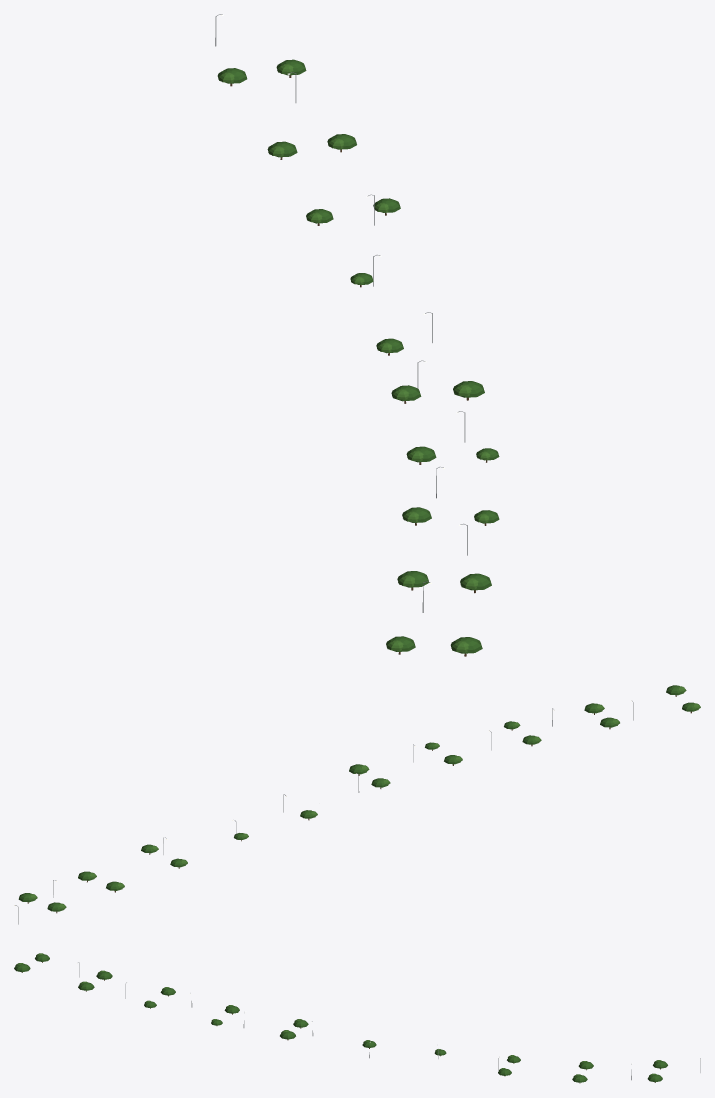
File: pb_jei_2.glb
3 views of the same model, one above another, from view 1: azimuth 30°, elevation 25°; view 2: azimuth 150°, elevation 25°; view 3: azimuth 270°, elevation 25° (orthographic). The views are drawn at different scales.
Parts seen in each view (by area): view 1: pb_jei_2_lod0; view 2: pb_jei_2_lod0; view 3: pb_jei_2_lod0.
Part boxes in pixels (left/top/right/bottom): pb_jei_2_lod0: left=215, top=14, right=499, bottom=656; pb_jei_2_lod0: left=14, top=685, right=700, bottom=924; pb_jei_2_lod0: left=14, top=953, right=700, bottom=1083.
Size of what is drawn, in the model's own units: 181 by 19.39 by 406.
